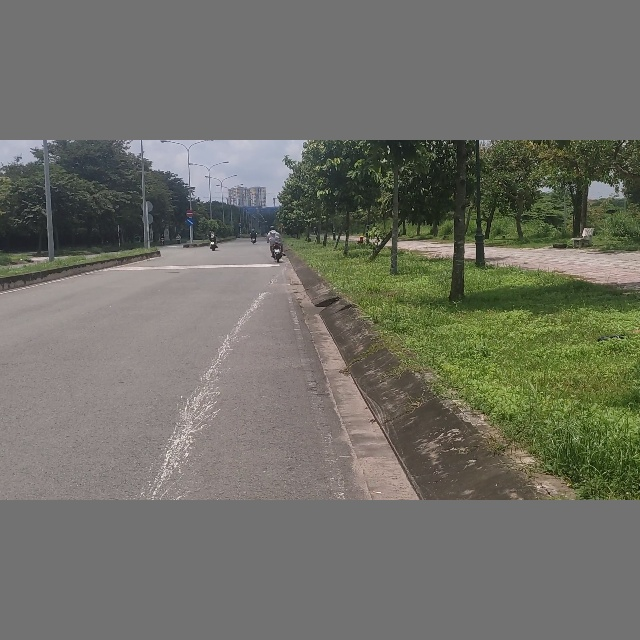P.102: (186, 210, 194, 217)
R.302a: (186, 218, 194, 226)
